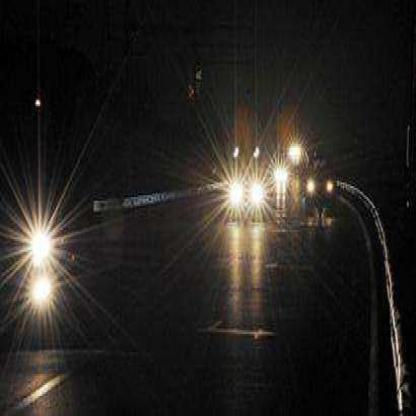other: (11, 186, 70, 324), (283, 117, 334, 216), (223, 166, 280, 238)
